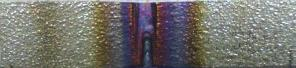soldas: (98, 1, 208, 67)
